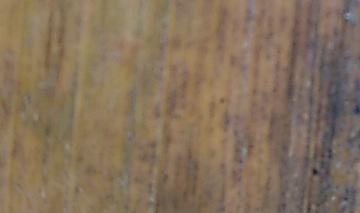tarspot: (138, 140, 156, 175), (8, 140, 20, 157), (152, 99, 161, 120), (83, 162, 97, 175), (228, 51, 238, 68), (72, 180, 83, 194), (124, 131, 135, 144), (309, 164, 319, 177), (159, 20, 169, 31), (353, 103, 360, 117), (146, 180, 153, 194), (217, 95, 226, 105), (161, 172, 168, 184), (305, 202, 312, 213), (279, 202, 287, 211), (327, 148, 332, 160), (246, 143, 254, 150), (341, 195, 347, 203)
